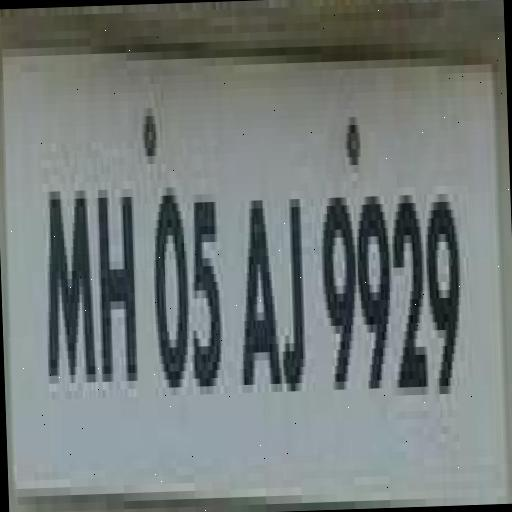number plate: (9, 15, 512, 512)
